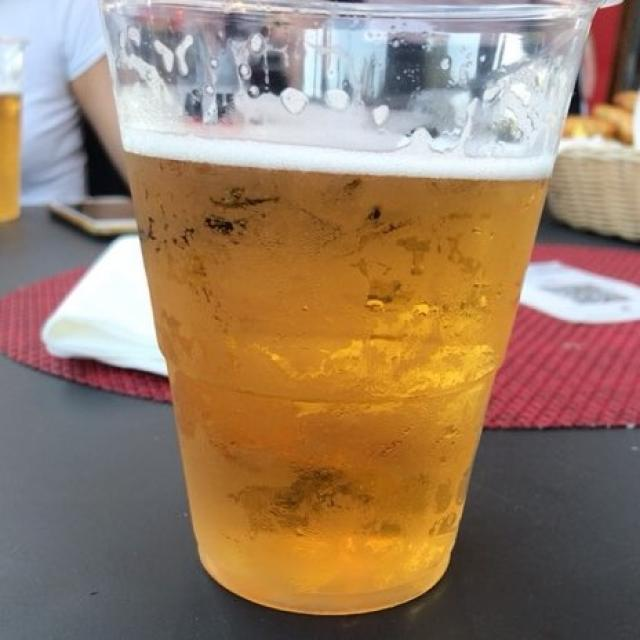beer: (133, 79, 543, 594)
